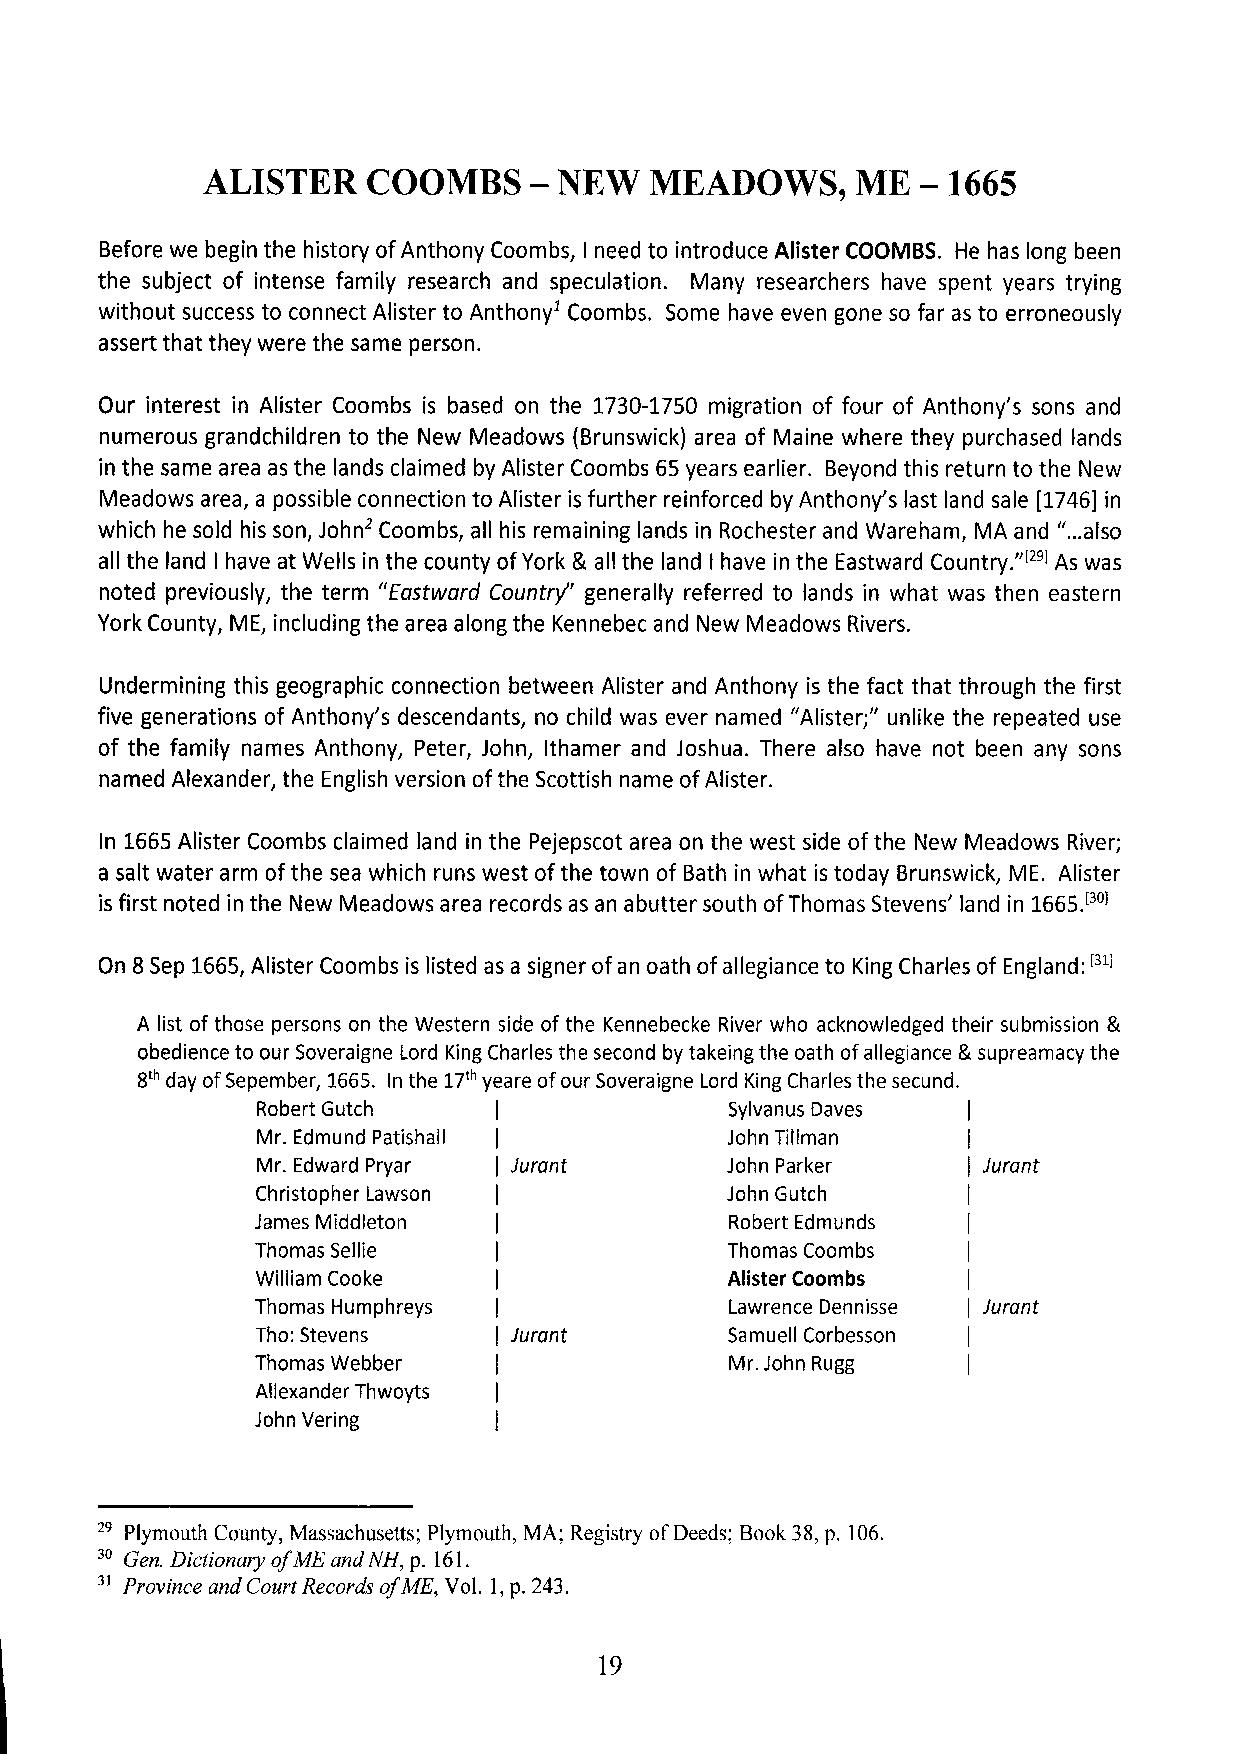chapter: (203, 162, 1019, 204)
content: (95, 235, 1125, 1600)
content_pagenumber: (590, 1653, 625, 1679)
